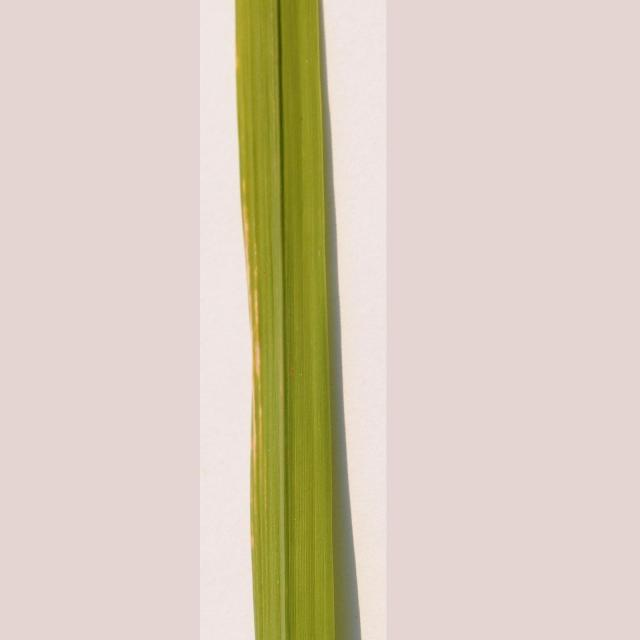Bacterial leaf blight: (200, 1, 387, 640)
